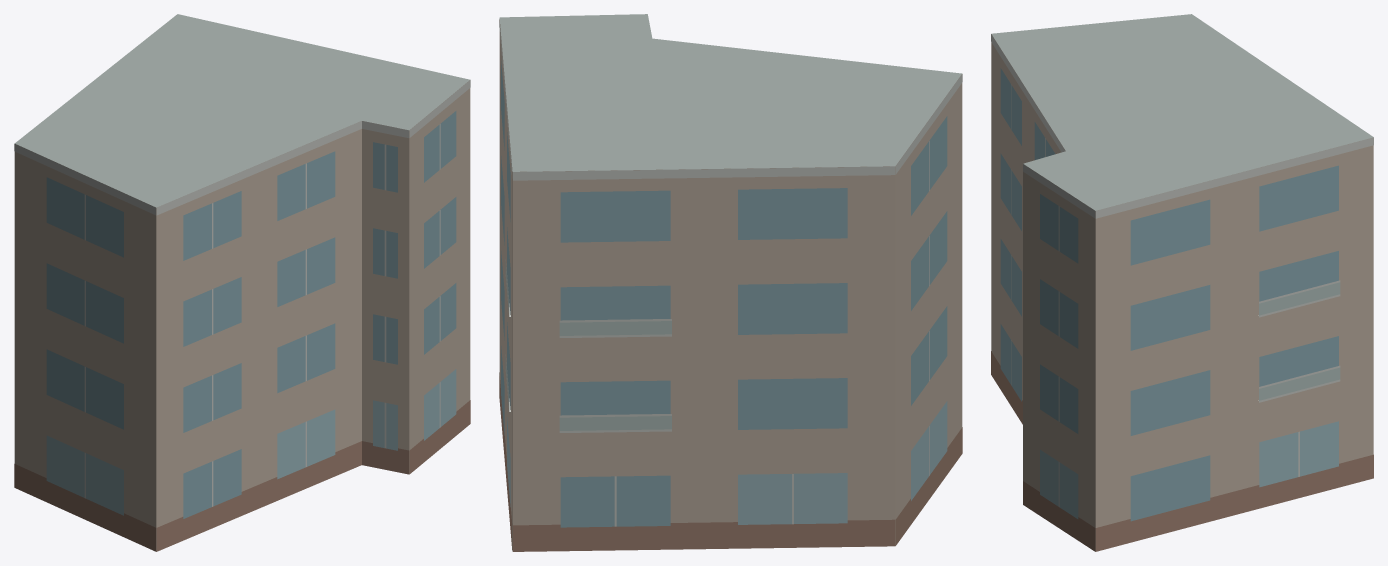
Rendered from survey-upis-32990732.glb.
3 renders of one model, left to right at view 1: azimuth 30°, elevation 25°; view 2: azimuth 150°, elevation 25°; view 3: azimuth 270°, elevation 25°, orthographic. The views are drawn at different scales.
Visible parts, largest first — view 1: survey-upis-32990732.tmp; view 2: survey-upis-32990732.tmp; view 3: survey-upis-32990732.tmp.
Part boxes in pixels (x1,y1,x2,y2): survey-upis-32990732.tmp: (14, 14, 470, 551); survey-upis-32990732.tmp: (499, 14, 962, 551); survey-upis-32990732.tmp: (991, 14, 1373, 551).
Bounding box in the file's own units: 13.01 × 10.5 × 10.69.
